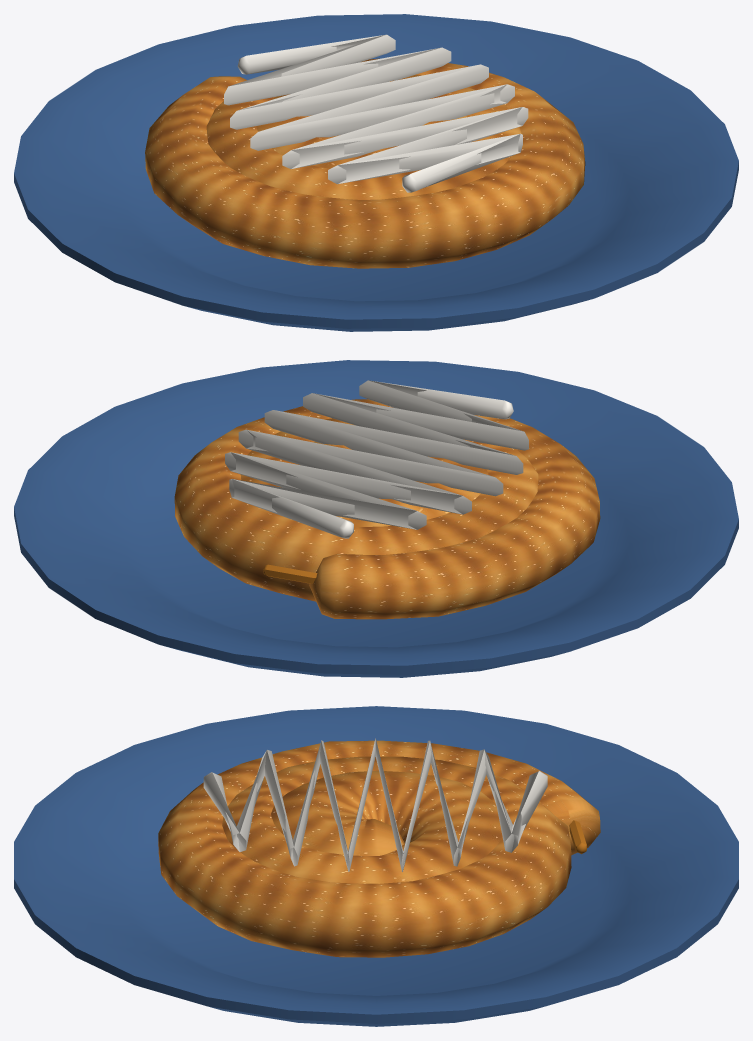
The model's file is bakery_cinnamon_roll.glb.
3 views of the same model, one above another, from view 1: azimuth 30°, elevation 25°; view 2: azimuth 150°, elevation 25°; view 3: azimuth 270°, elevation 25° (orthographic).
Parts seen in each view (by area): view 1: bakery_cinnamon_roll; view 2: bakery_cinnamon_roll; view 3: bakery_cinnamon_roll.
Boxes of the visible parts, x1,y1,x2,y2 form: bakery_cinnamon_roll: (14,14,738,331); bakery_cinnamon_roll: (14,360,738,677); bakery_cinnamon_roll: (14,706,738,1026).
Bounding box in the file's own units: 0.18 × 0.0371 × 0.1787.
Materials: 4 (1 with a texture image).
